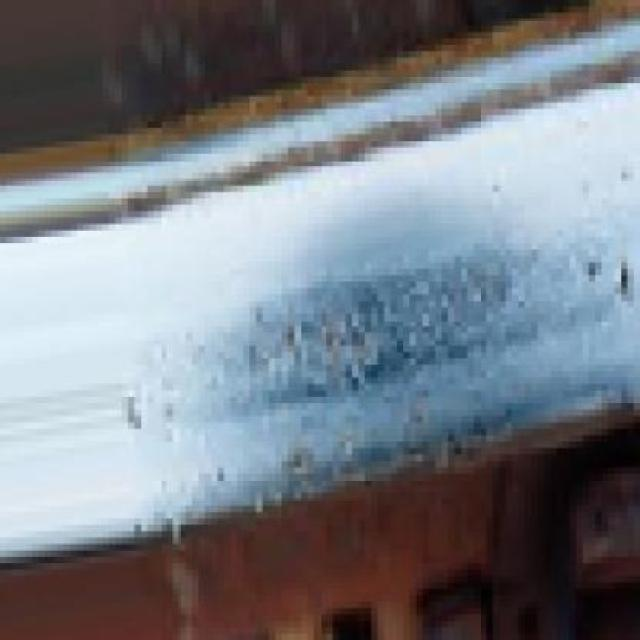defective: (1, 29, 640, 530)
